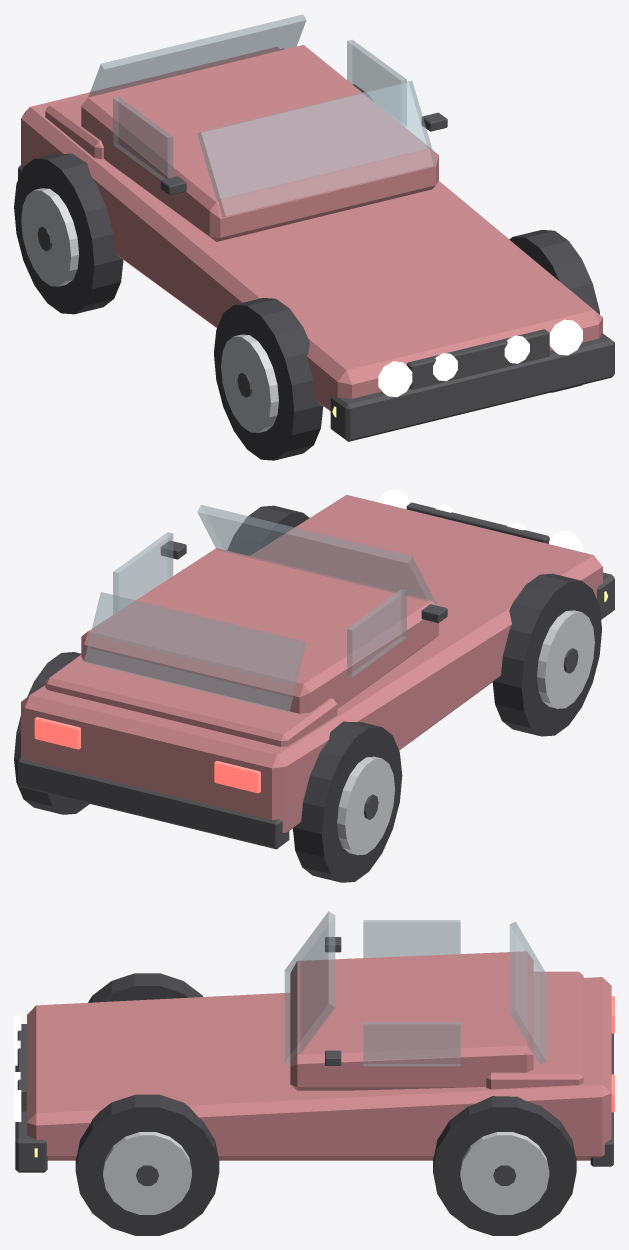
File: hatch_common.glb
The picture shows the model from 3 angles, top to bottom: view 1: azimuth 30°, elevation 25°; view 2: azimuth 150°, elevation 25°; view 3: azimuth 270°, elevation 25°; orthographic projection. The views are drawn at different scales.
Parts seen in each view (by area): view 1: Body, Cabin, Windshield, Bumper, FLTire, RLTire, RearGlass, FLRim, RLRim, SideGlass.001, Grille, FRTire (+4 smaller); view 2: Body, Cabin, RearGlass, Hatch, FLTire, Windshield, RLTire, Valance, FLRim, RLRim, SideGlass.001, SideGlass (+6 smaller); view 3: Body, Cabin, FRTire, RRTire, Hatch, RRRim, FRRim, Windshield, SideGlass, RearGlass, SideGlass.001, FLTire (+3 smaller).
Boxes of the visible parts, box(x1,y1,x2,y2) form: Body: box(21, 47, 602, 411); Cabin: box(81, 45, 438, 241); Windshield: box(197, 80, 436, 217); Bumper: box(330, 333, 614, 441); FLTire: box(214, 297, 323, 460); RLTire: box(14, 153, 123, 314); RearGlass: box(88, 14, 306, 96); FLRim: box(221, 334, 278, 432); RLRim: box(21, 188, 78, 286); SideGlass.001: box(113, 96, 173, 179); Grille: box(406, 329, 549, 389); FRTire: box(509, 230, 599, 392); Body: box(21, 495, 602, 833); Cabin: box(81, 548, 438, 713); RearGlass: box(84, 592, 306, 712); Hatch: box(45, 655, 337, 746); FLTire: box(492, 573, 601, 736); Windshield: box(197, 505, 436, 604); RLTire: box(293, 721, 402, 882); Valance: box(18, 757, 289, 849); FLRim: box(537, 610, 594, 708); RLRim: box(337, 756, 394, 855); SideGlass.001: box(347, 589, 406, 677); SideGlass: box(113, 532, 173, 614); Body: box(27, 977, 611, 1160); Cabin: box(290, 951, 533, 1090); FRTire: box(75, 1094, 219, 1235); RRTire: box(433, 1096, 576, 1235); Hatch: box(486, 971, 583, 1089); RRRim: box(460, 1132, 549, 1214); FRRim: box(103, 1132, 191, 1214); Windshield: box(284, 911, 335, 1065); SideGlass: box(363, 1022, 460, 1066); RearGlass: box(509, 922, 546, 1064); SideGlass.001: box(363, 920, 460, 957); FLTire: box(88, 973, 203, 1002).
Bounding box in the file's own units: 1.46 × 1.01 × 2.59.
